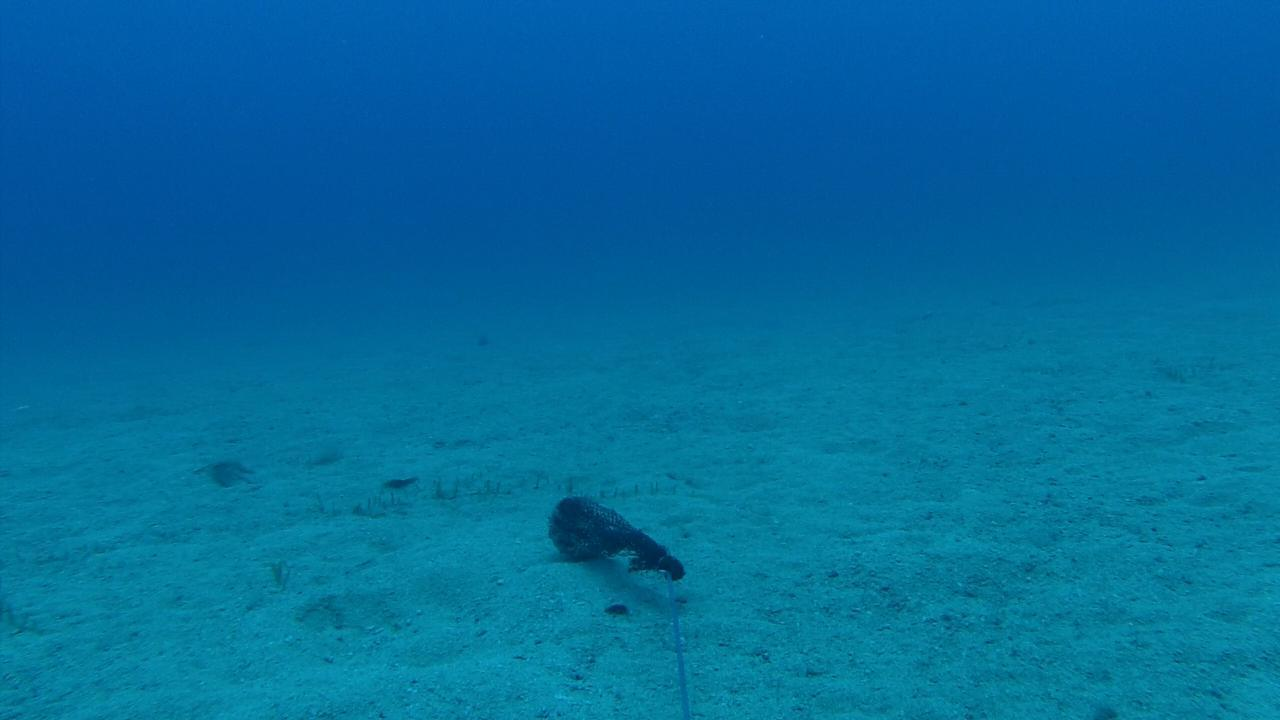bothus: (377, 459, 419, 489)
